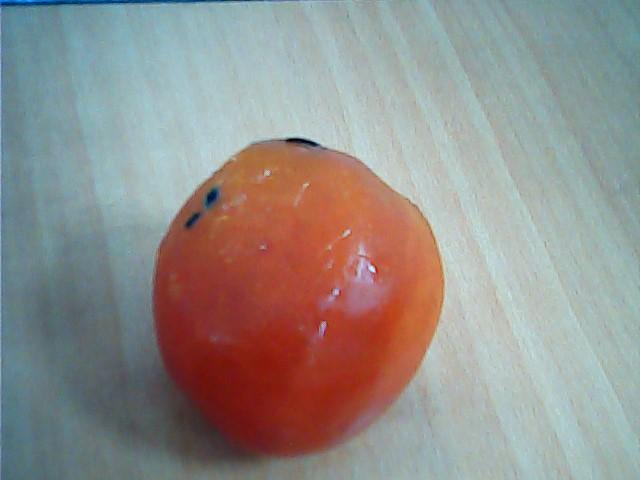defectuoso: (150, 136, 446, 466)
